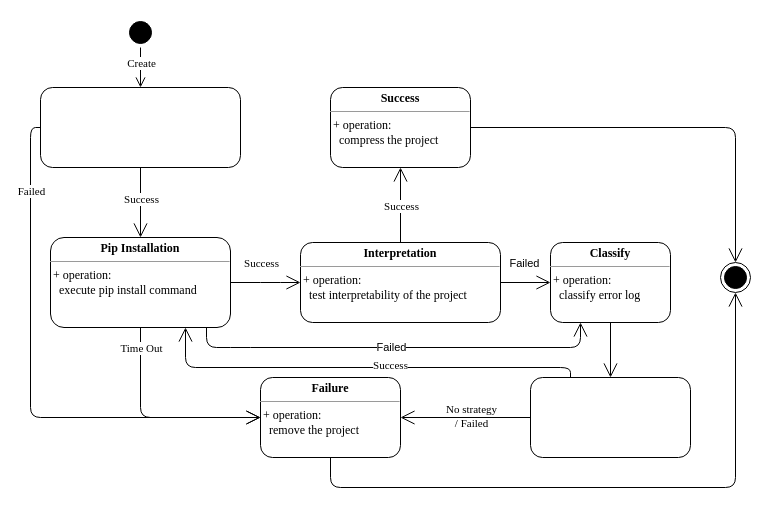
Image size: 768x519. Some labels were removed from this diagram. The shapes that lost their labels are listed below. From the top down, each one's centre as x and y in pixels, then its label:
At (140,127): "Create Virtual Environment + operation: initialize a virtual environment".
At (610,417): "Strategy + operation: retrieve proper strategy apply strategy".
